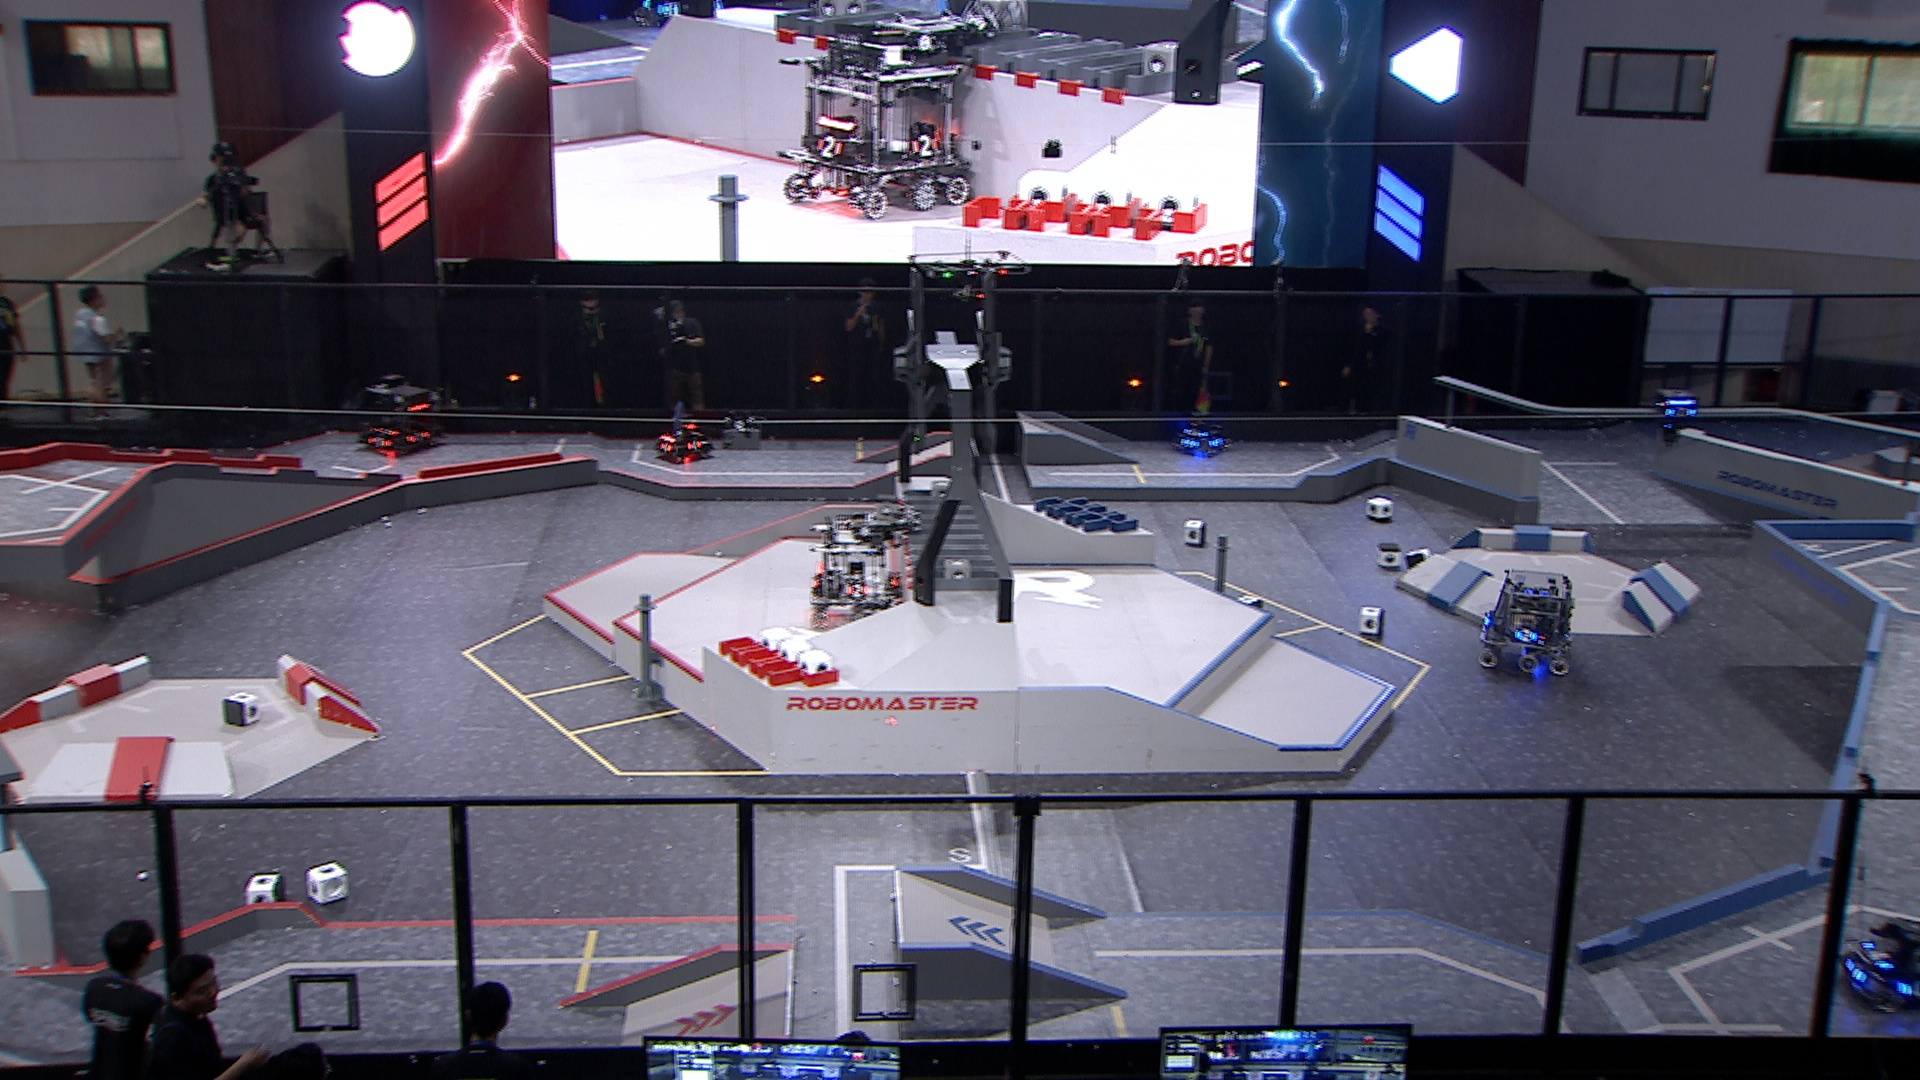armor: (1855, 935, 1896, 975), (1842, 953, 1870, 986), (1664, 404, 1698, 422), (843, 580, 869, 600), (406, 429, 433, 447), (1514, 626, 1539, 644), (371, 423, 400, 438), (365, 436, 392, 451), (684, 436, 704, 452), (1179, 436, 1201, 448), (1207, 436, 1225, 450), (1183, 427, 1205, 438), (659, 440, 675, 455)
car: (1474, 570, 1582, 679), (808, 513, 910, 615), (1837, 911, 1920, 1021), (356, 376, 444, 460), (1168, 415, 1233, 458), (657, 419, 713, 465)
ignore: (771, 12, 975, 218)
watcher: (1648, 384, 1702, 447)
